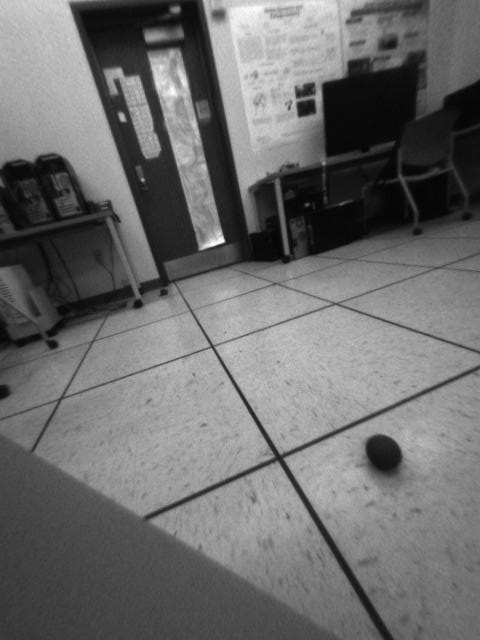dogtoy: (361, 429, 409, 477)
